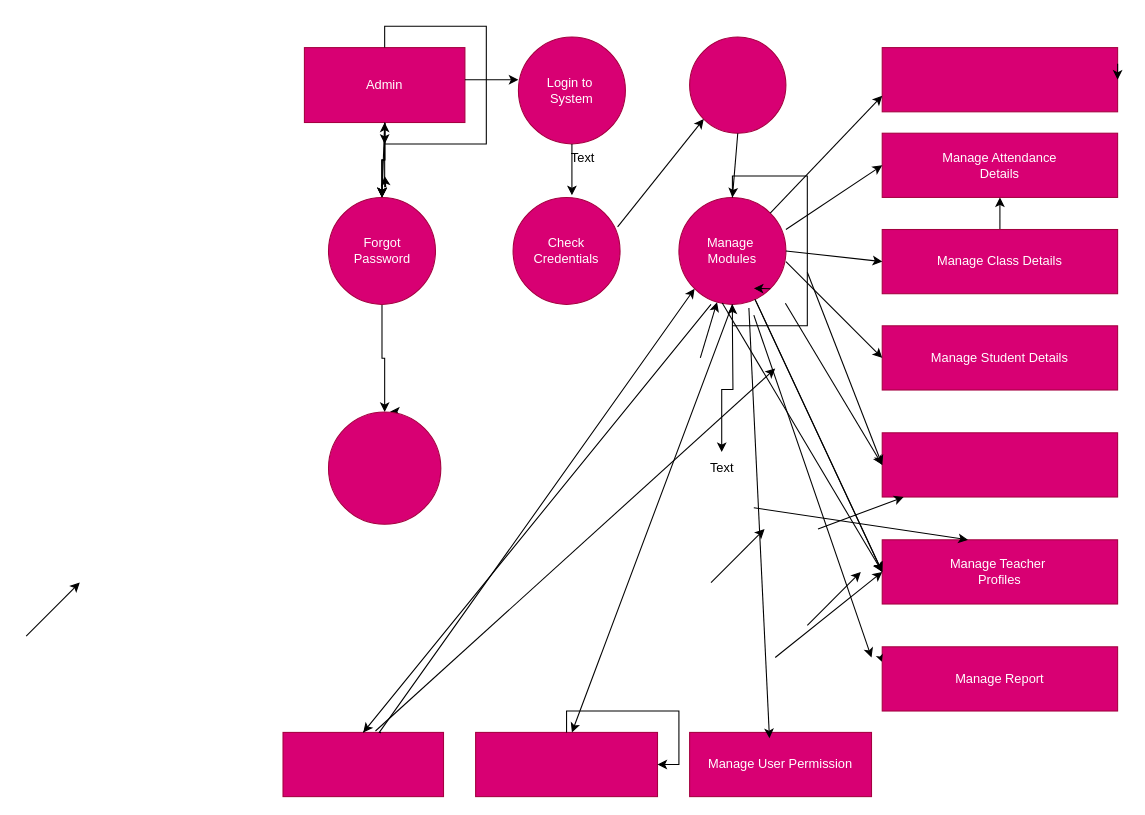
Some shapes in this 1145 by 815 pixel diagram are drawn without their labels. The centre of each missing label's shape, as x and y in pixels:
"Check Roles of Access" belongs at point (737, 84).
"Manage Fee Details" belongs at point (999, 464).
"Manage Roles of User" belongs at point (566, 764).
"Manage System Admin" belongs at point (363, 764).
"Manage Timetable Details" belongs at point (999, 79).
"Send Email to user" belongs at point (384, 467).
